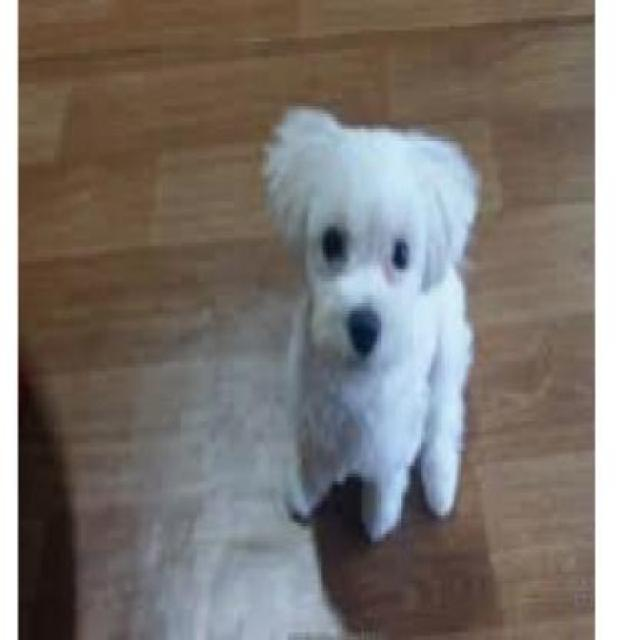Dog: (257, 106, 483, 546)
